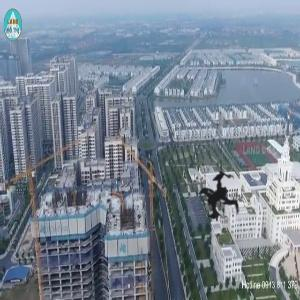drone: (155, 129, 291, 265)
